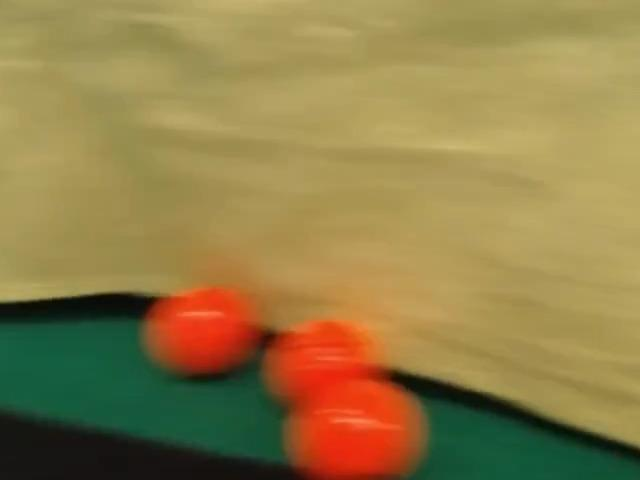Ball: (285, 379, 426, 479), (262, 319, 384, 405), (143, 287, 260, 376)
